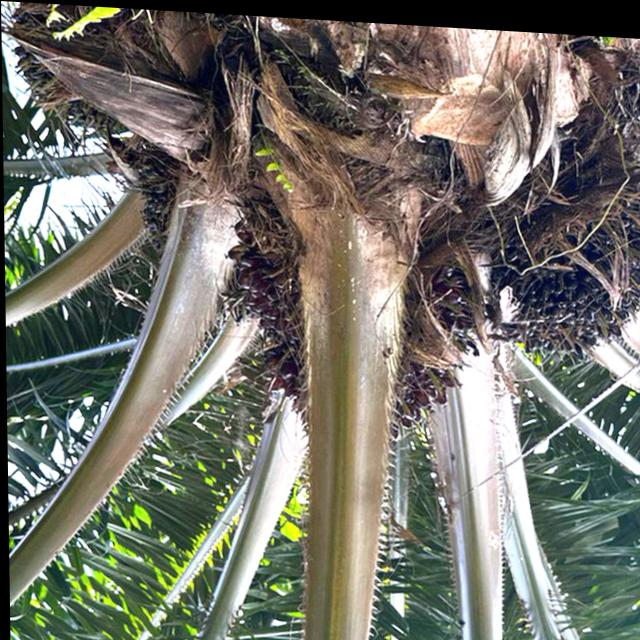ripe: (214, 190, 490, 463)
